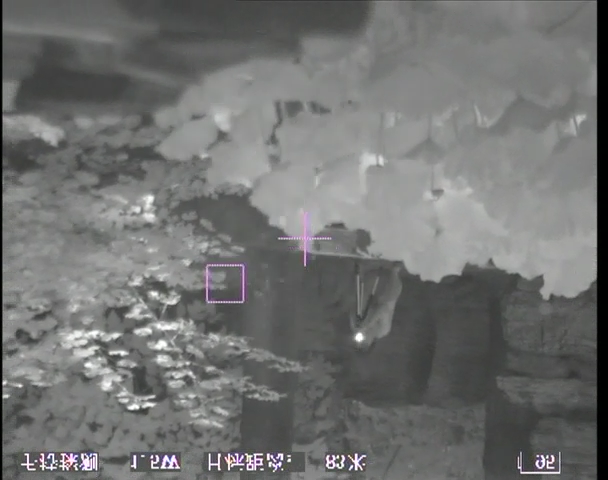my: (353, 330, 367, 344)
